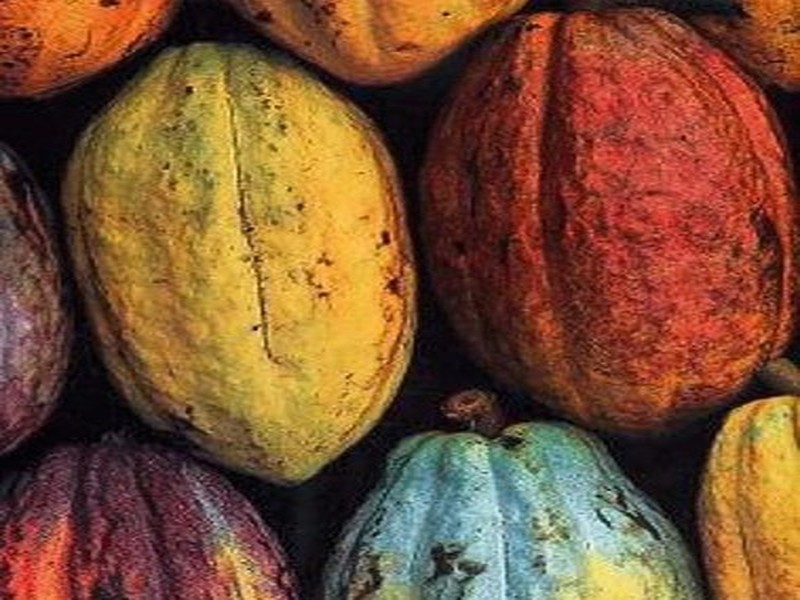Cacaopod: (417, 7, 800, 441), (59, 40, 424, 487)
